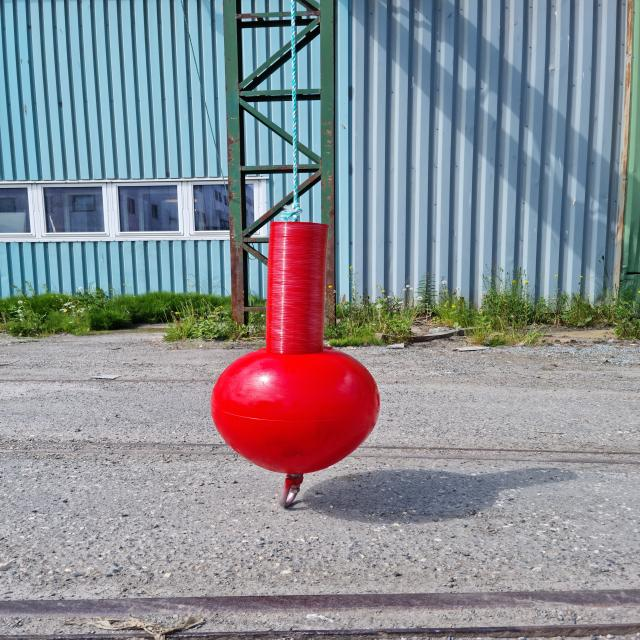red: (211, 220, 382, 474)
